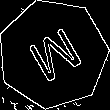M_SE: (20, 20, 86, 88)
